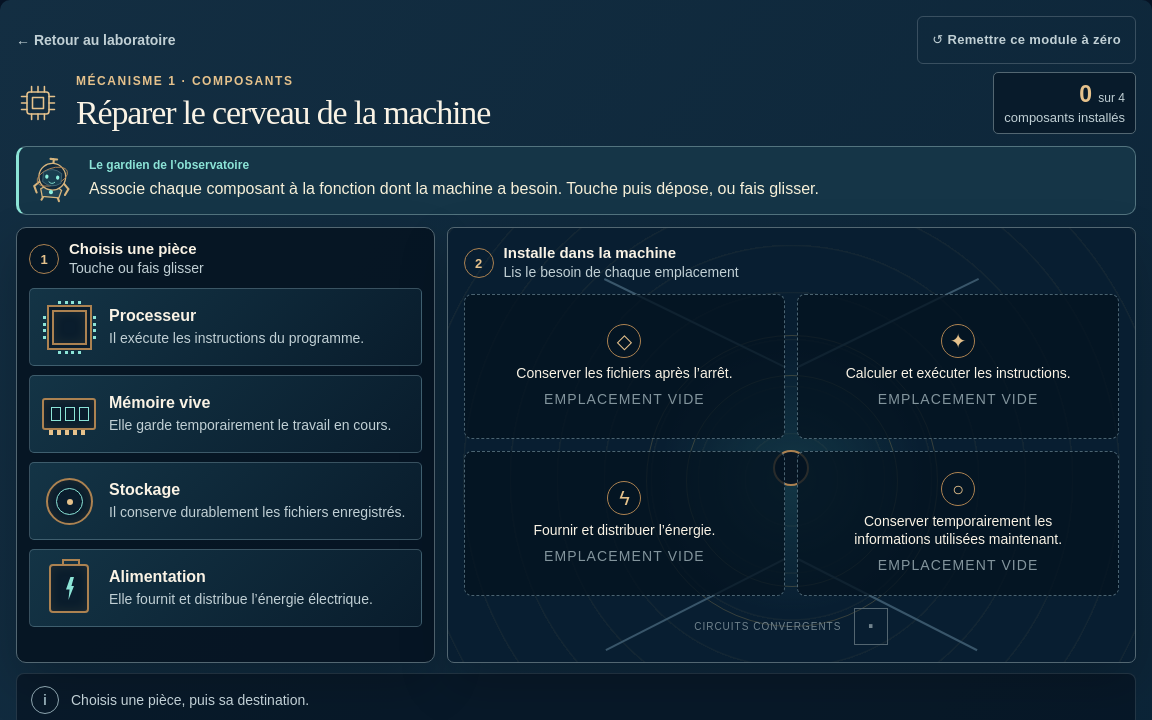
Test case: mission numérique Composants › accepte un glissement simulé au doigt
Press the mouse on the button "Stockage Il conserve durablement les fichiers enregistrés." at (225, 501), box [29,462,422,540]
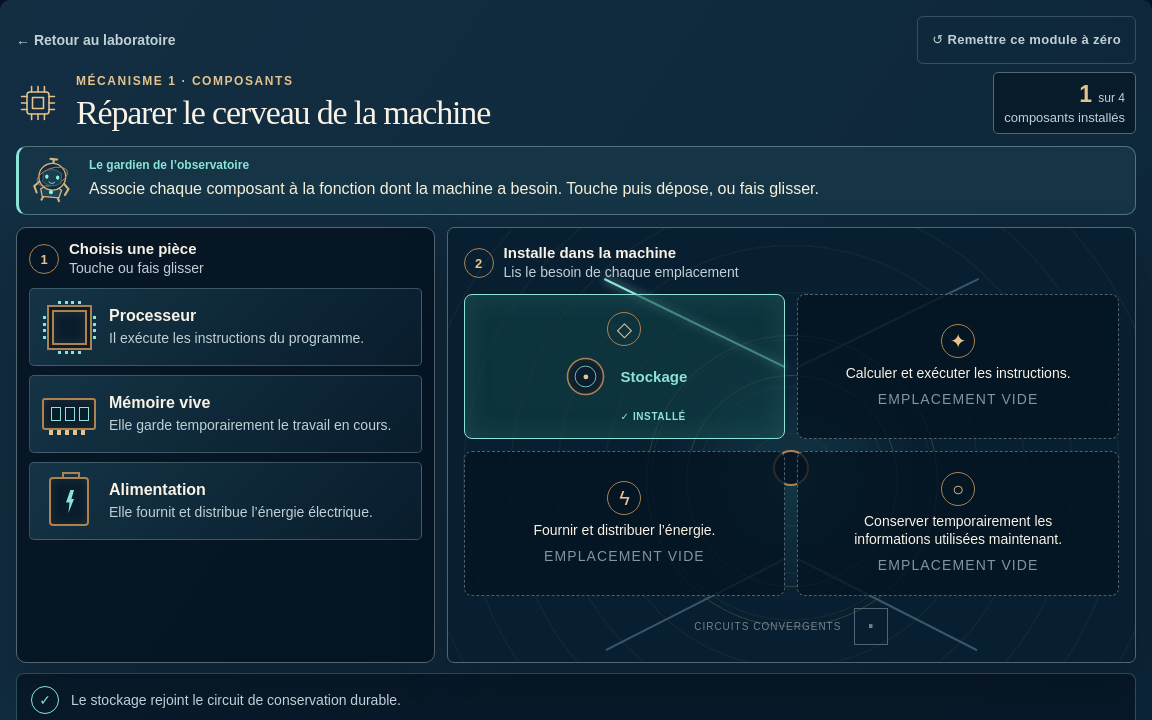
Expected: the element named "1 composant installé sur 4" is shown, [993,72,1136,134]
